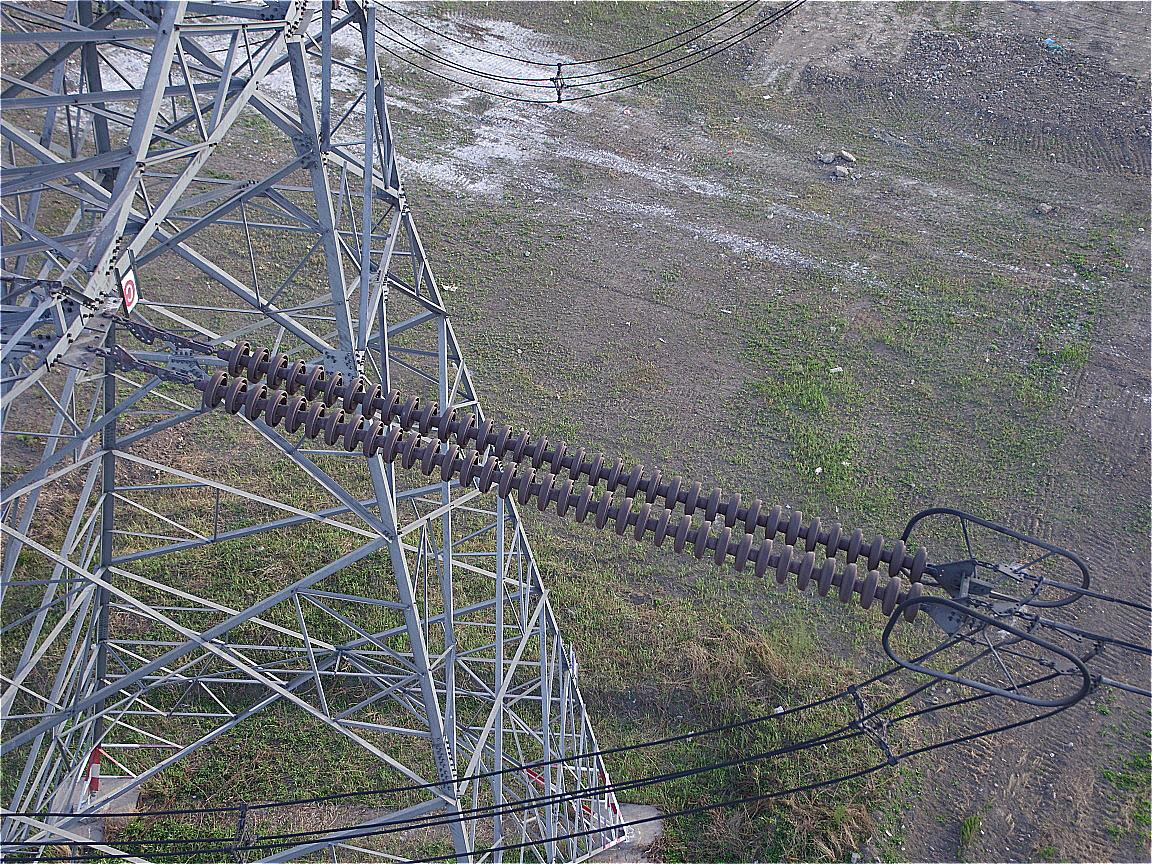insultor1: (204, 340, 929, 625)
